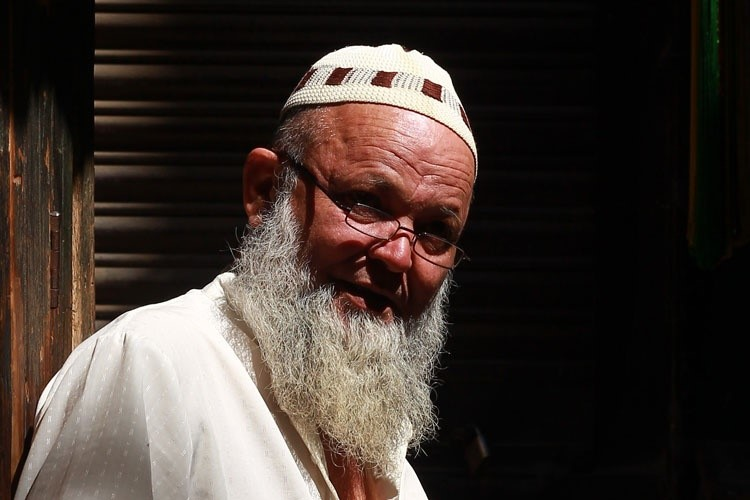face_no_mask: (272, 106, 468, 342)
